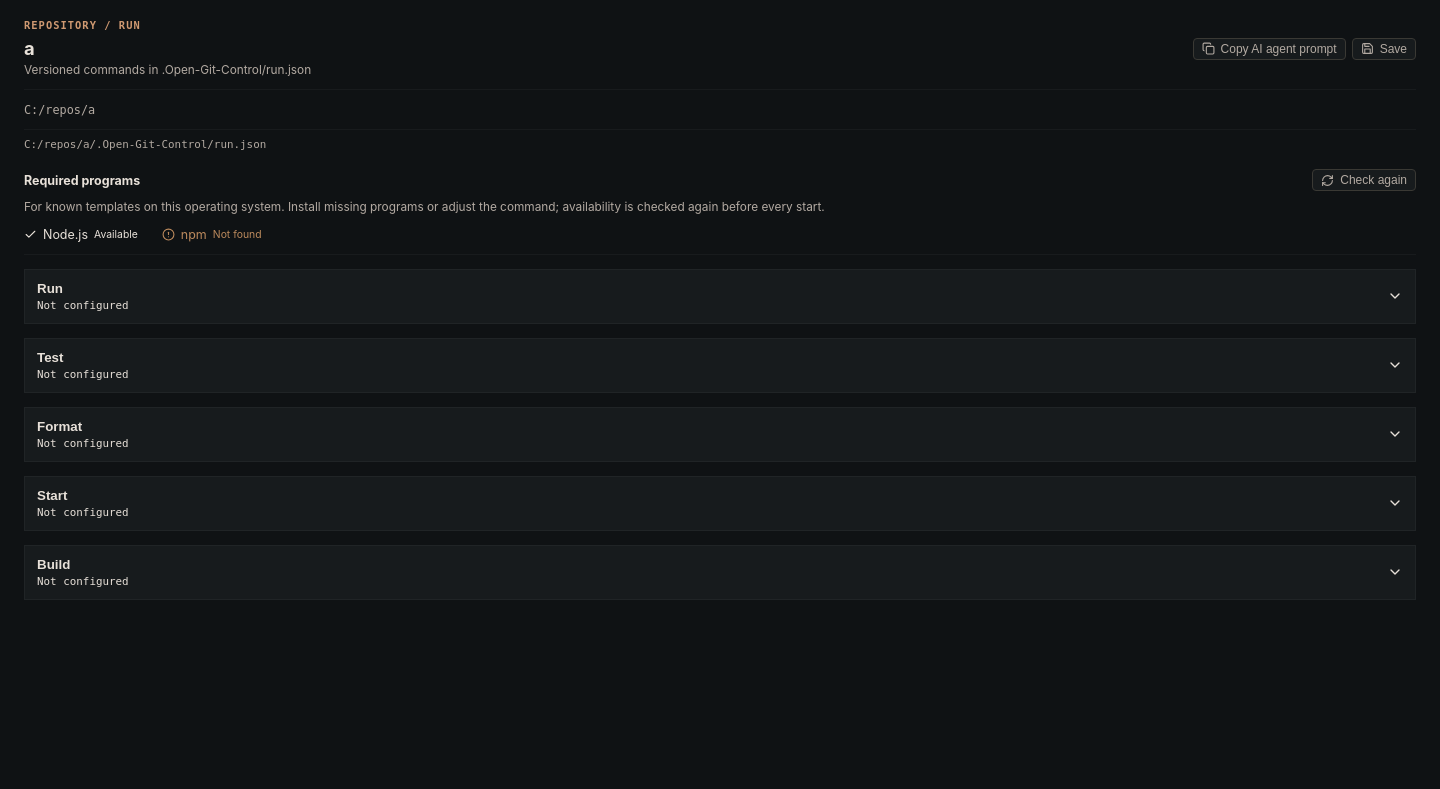
Test case: RepositoryRunConfigView › shows missing programs alongside detected templates and checks again after installation without discarding the draft
The image size is (1440, 789).
Click the button "Test Not configured" at [83, 374], box [25, 339, 1415, 392]
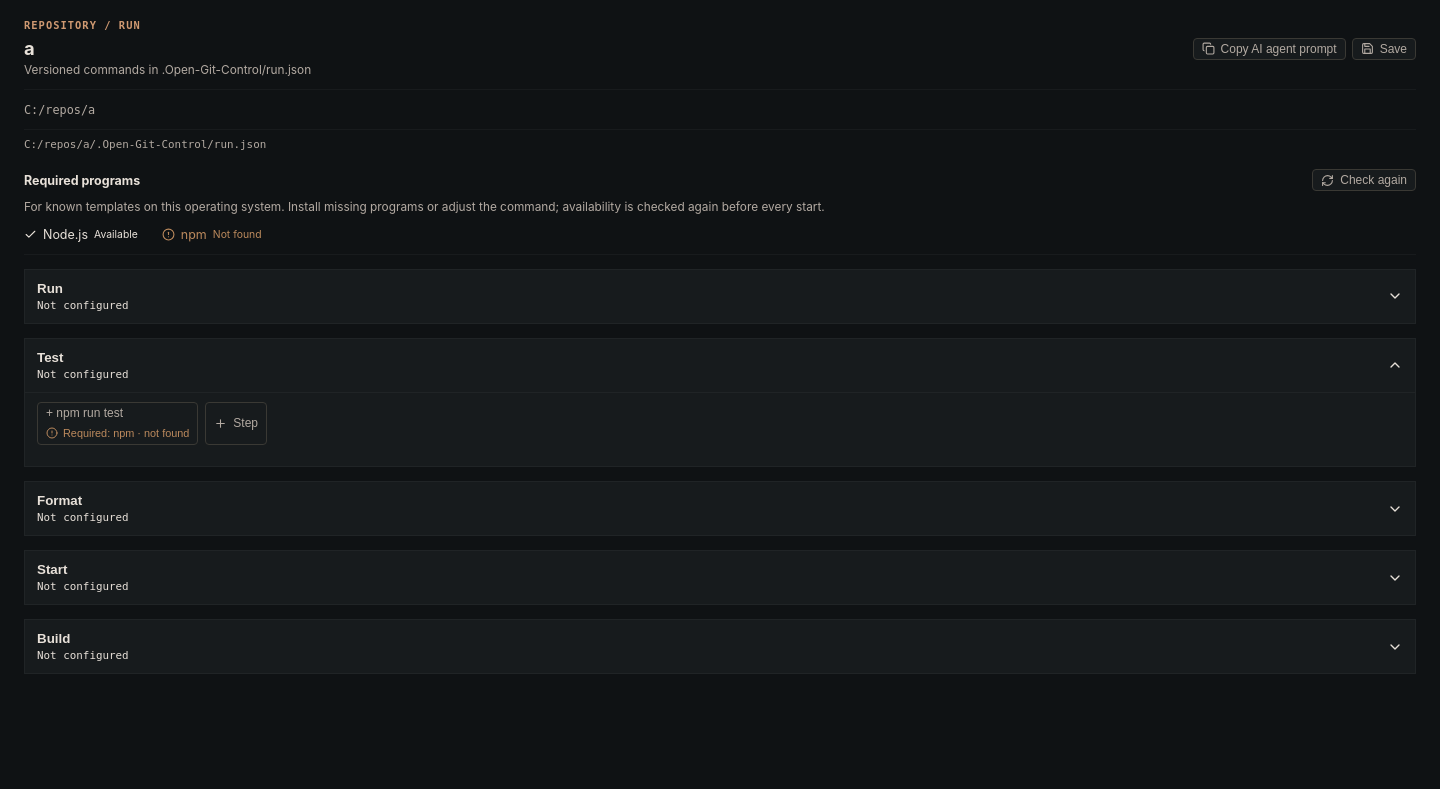
expect the button "+ npm run test Required: npm · not found" is shown: met
Click the button "+ npm run test Required: npm · not found" at [118, 424], box [37, 402, 198, 445]
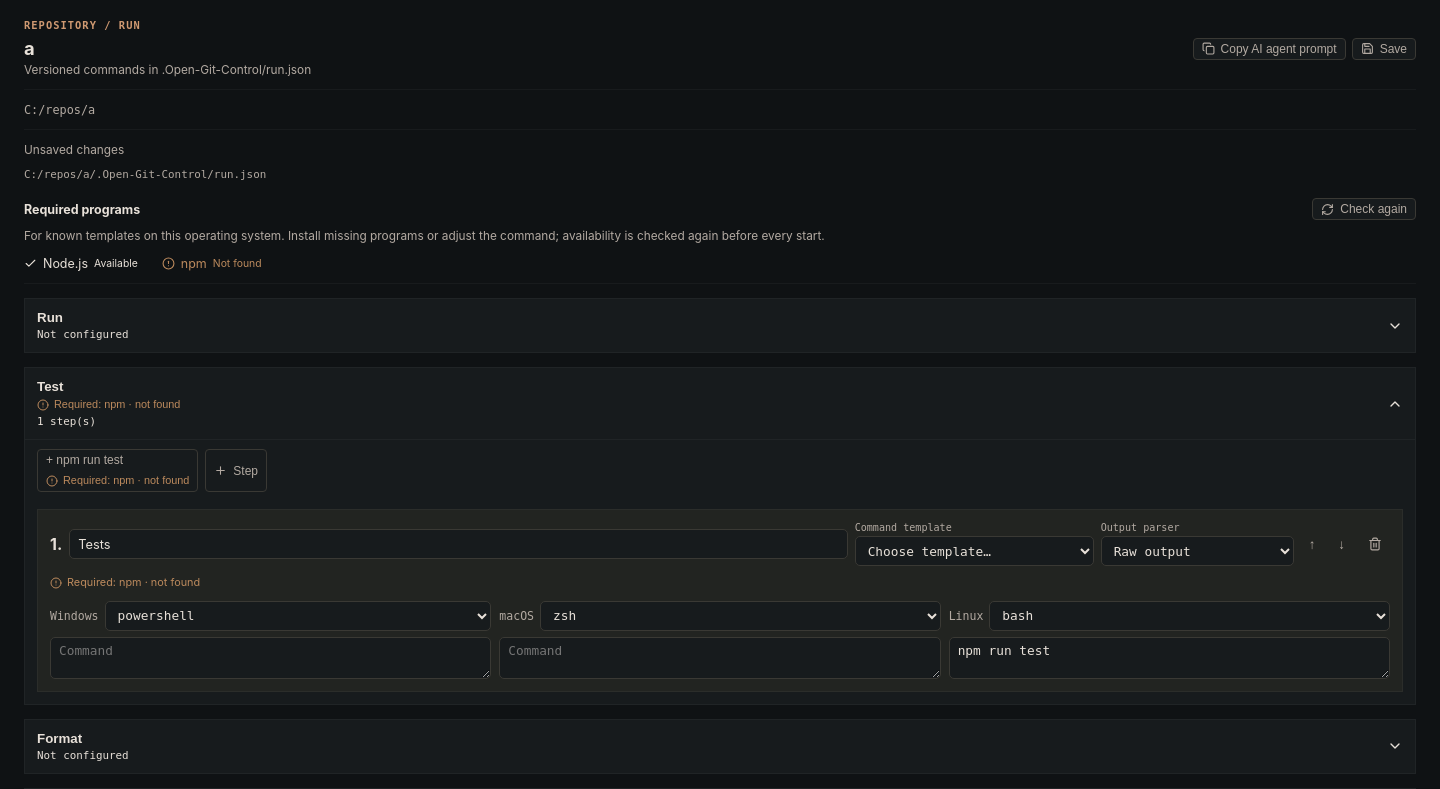
expect the text "Unsaved changes" is shown: met, box [24, 143, 124, 157]
Click the button "Check again" at [1364, 209], box [1312, 198, 1416, 220]
Wait 300 ms
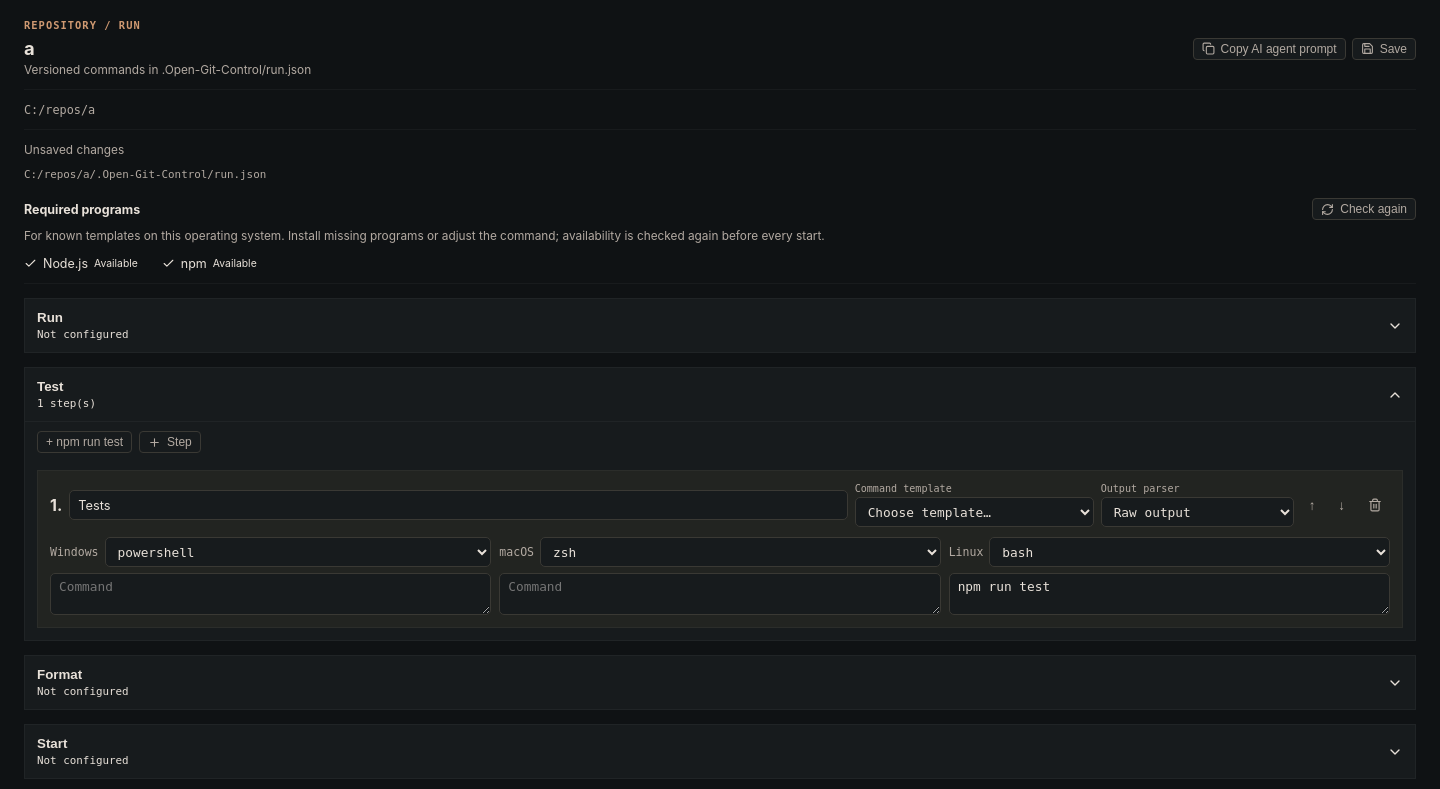
expect the text "Unsaved changes" is shown: met, box [24, 143, 124, 157]
expect the text "Not found" is gone: met
